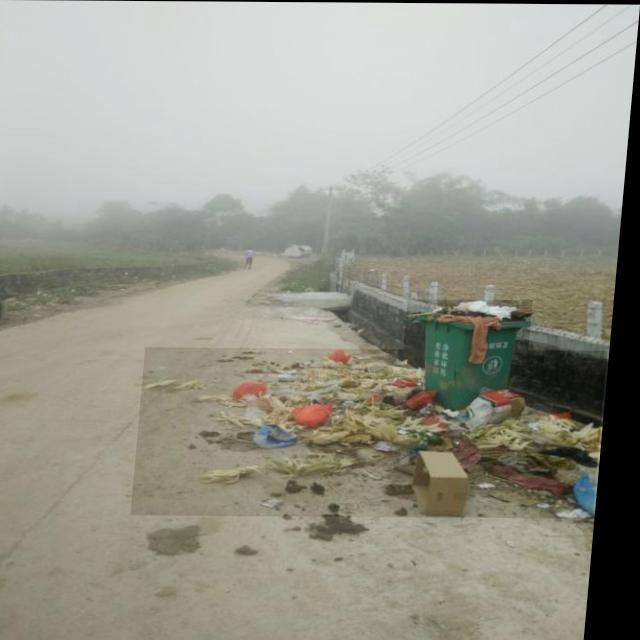garbage: (141, 347, 614, 517)
overflow: (405, 299, 538, 409)
